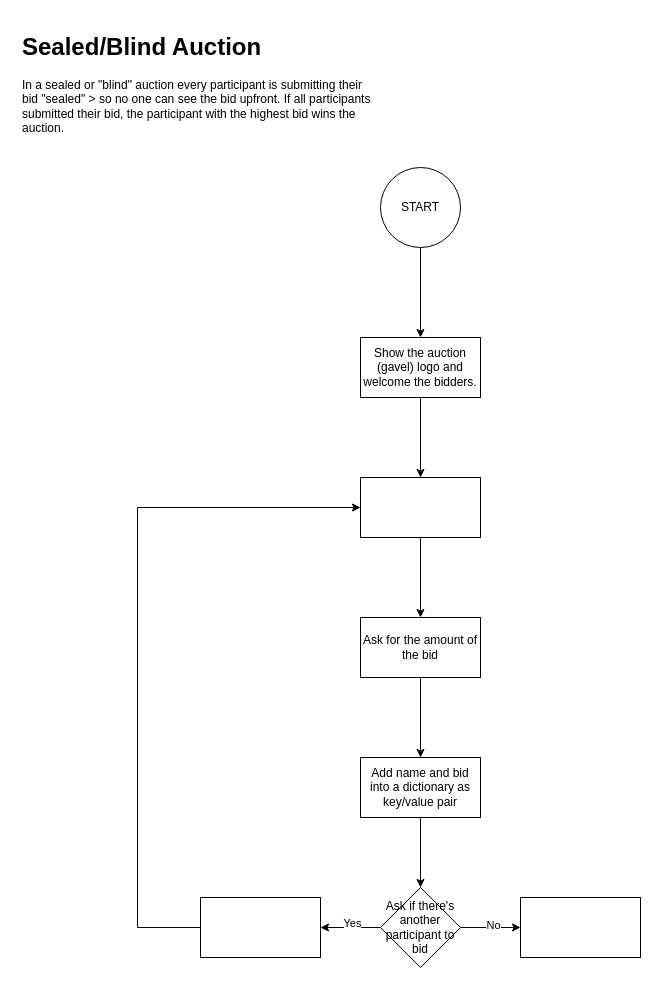
Some shapes in this 658 by 985 pixel diagram are drawn without their labels. The shapes that lost their labels are listed below. From the top down, each one's centre as x and y in pixels, then its label:
(x=420, y=507): Ask the participant for his/her name
(x=260, y=927): Clear the screen
(x=580, y=927): Find the highest bid in the dictionary and declare the bidder as the winner
